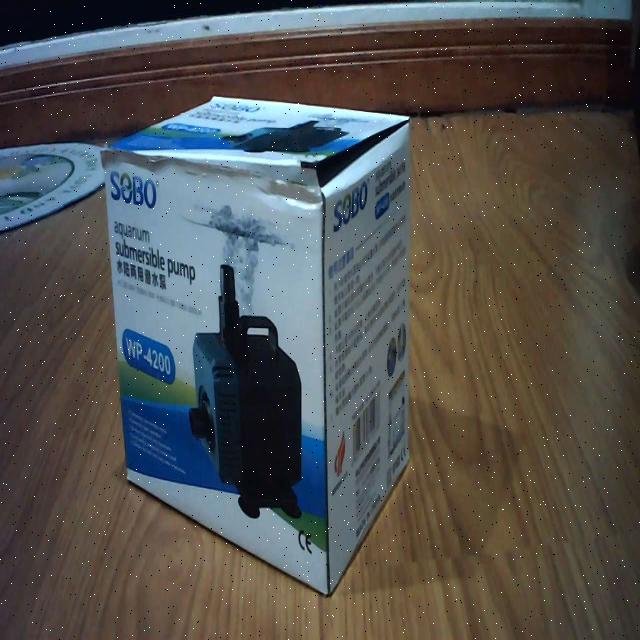SOBO_WP_4200: (100, 88, 412, 600)
